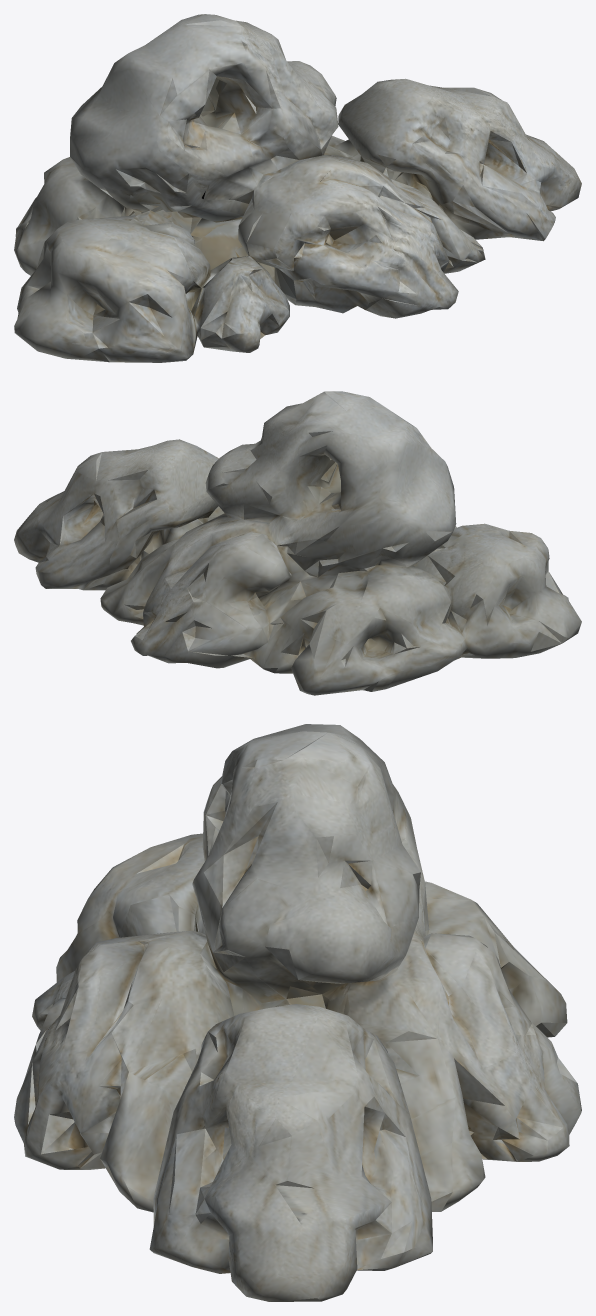
Rendered from 04_Rockery_Cluster.fbx.
3 views of the same model, one above another, from view 1: azimuth 30°, elevation 25°; view 2: azimuth 150°, elevation 25°; view 3: azimuth 270°, elevation 25° (orthographic). The views are drawn at different scales.
Visible parts, largest first — view 1: 04_Rockery_Cluster; view 2: 04_Rockery_Cluster; view 3: 04_Rockery_Cluster.
Part boxes in pixels (box(x1,y1,x2,y2)): 04_Rockery_Cluster: box(14, 14, 581, 362); 04_Rockery_Cluster: box(14, 391, 581, 695); 04_Rockery_Cluster: box(14, 724, 581, 1301).
Bounding box in the file's own units: 3.2 × 1.3 × 2.
